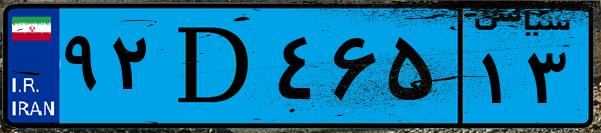1: (475, 38, 525, 113)
2: (110, 28, 158, 98)
3: (525, 38, 570, 115)
4: (270, 28, 330, 110)
5: (385, 28, 445, 110)
6: (330, 28, 385, 110)
9: (57, 26, 110, 100)
D: (158, 12, 270, 120)
